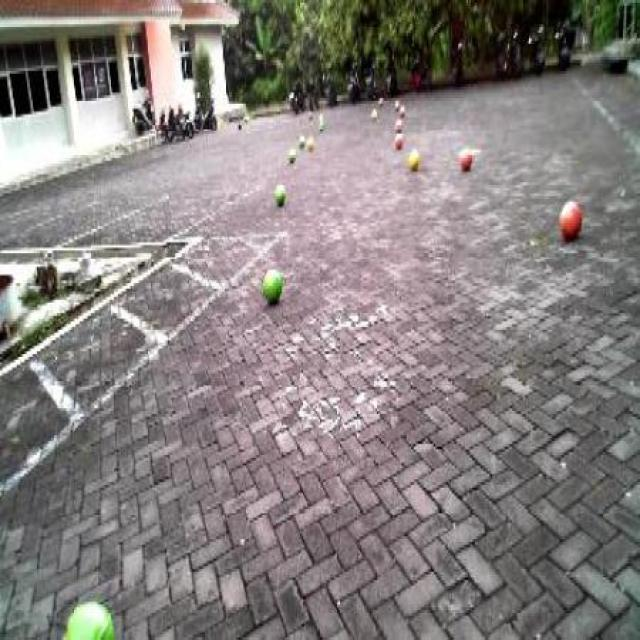buoy: (56, 579, 119, 636), (255, 256, 292, 319), (553, 188, 589, 250), (264, 168, 289, 216), (404, 138, 427, 178), (456, 140, 477, 179), (283, 144, 302, 172)
